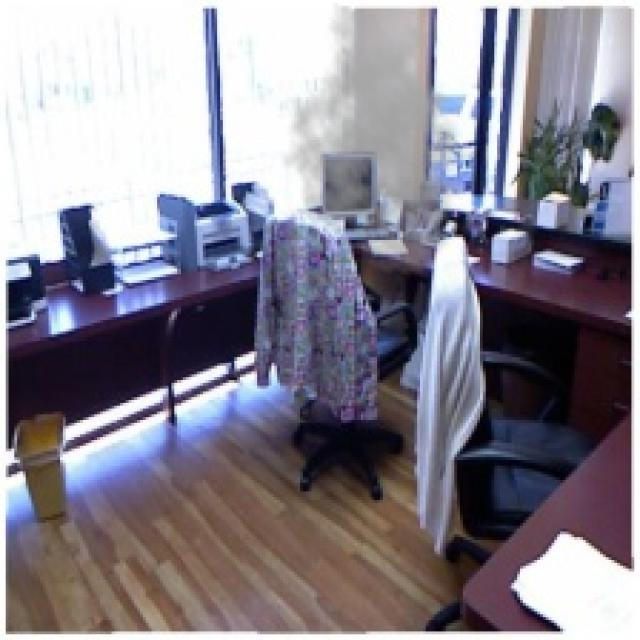smoke: (280, 3, 480, 277)
